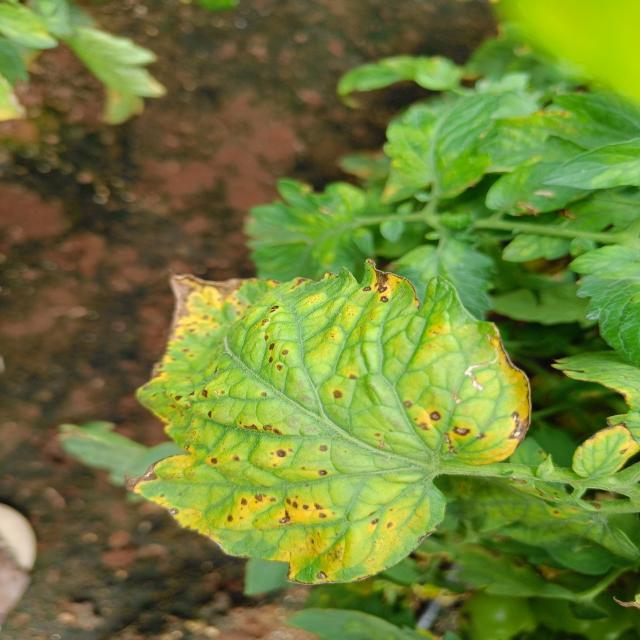Tomato mosaic virus leaf: (119, 256, 540, 590), (570, 418, 640, 481)
